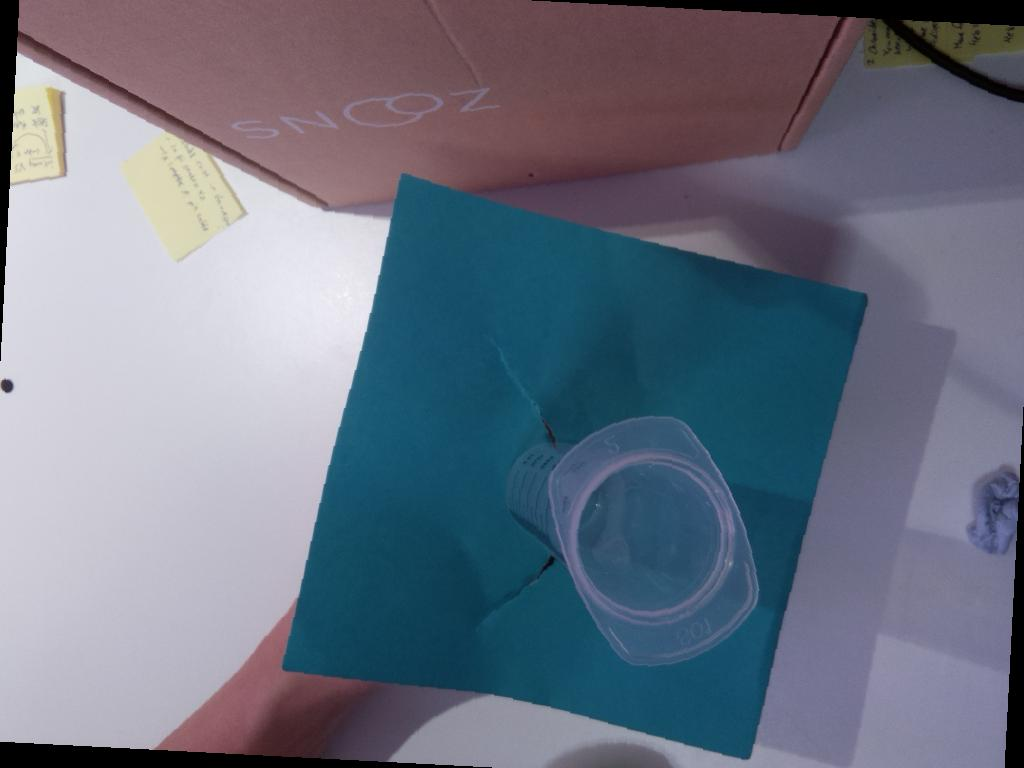clean: (548, 415, 764, 673)
